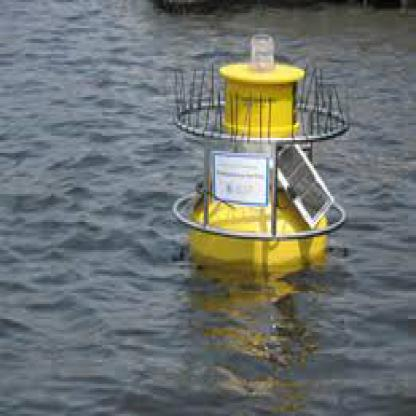buoy: (160, 20, 364, 282)
